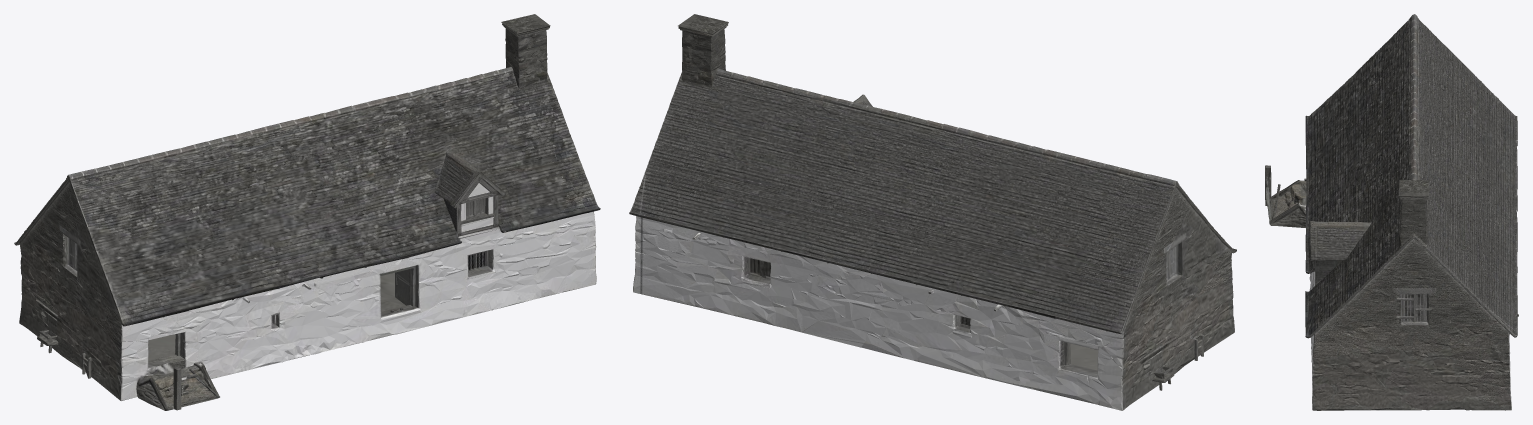
The model's file is longhouse_cilewent_a.meshy.reduced.glb.
3 views of the same model, side by side, from view 1: azimuth 30°, elevation 25°; view 2: azimuth 150°, elevation 25°; view 3: azimuth 270°, elevation 25° (orthographic). The views are drawn at different scales.
Size of the model in its own units: 1.92 by 0.8548 by 0.9136.
1 material, 1 textured.
